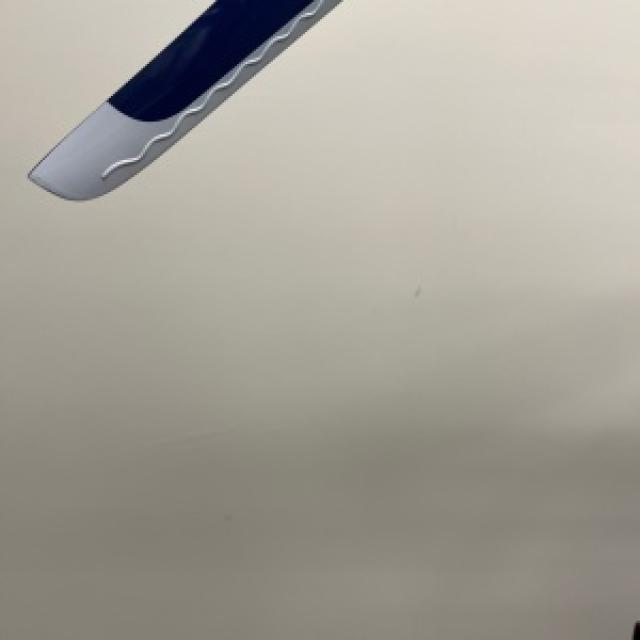healthy: (26, 0, 337, 198)
